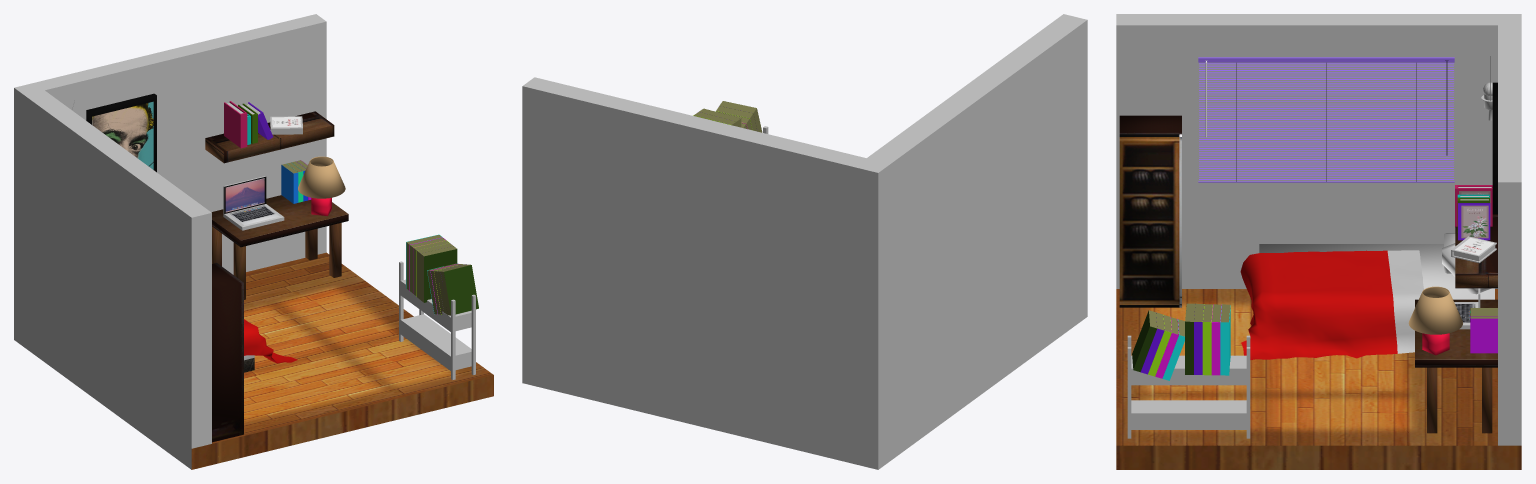
File: ModelBan.obj
3 renders of one model, left to right at view 1: azimuth 30°, elevation 25°; view 2: azimuth 150°, elevation 25°; view 3: azimuth 270°, elevation 25°, orthographic. The views are drawn at different scales.
Visible parts, largest first — view 1: Room_Wall_0, Room_Floor_0, Cube.005_Table_0, Table_Table_0, Shelves1_Shelves_material_0, Cube.001_Table_0, Cube.007_Images_0, Lampshade.001_Lampshade.001_material_0, Book0.001_Book0_material.001_0, Cube.004_Desktop_0, Cube.007_Black_0, Plane_ClothB_0 (+5 smaller); view 2: Room_Wall_0; view 3: Room_Wall_0, Room_Floor_0, Room_Windows_0, Venetian_slats_Plastic_venetian_material_0, Plane_ClothB_0, Cube.005_Wardrop_0, Shelves1_Shelves_material_0, Table_Table_0, Cube_Bed_0, Plane_Cloth_0, Lampshade.001_Lampshade.001_material_0, Cube.001_Table_0 (+15 smaller).
Boxes of the visible parts, x1,y1,x2,y2 form: Room_Wall_0: (14, 14, 326, 469); Room_Floor_0: (191, 252, 493, 469); Cube.005_Table_0: (212, 263, 243, 442); Table_Table_0: (211, 195, 348, 299); Shelves1_Shelves_material_0: (399, 261, 475, 379); Cube.001_Table_0: (205, 111, 334, 163); Cube.007_Images_0: (92, 101, 153, 169); Lampshade.001_Lampshade.001_material_0: (298, 156, 345, 198); Book0.001_Book0_material.001_0: (444, 265, 478, 314); Cube.004_Desktop_0: (225, 178, 264, 212); Cube.007_Black_0: (86, 93, 156, 172); Plane_ClothB_0: (244, 319, 297, 363); Room_Wall_0: (522, 14, 1087, 469); Room_Wall_0: (1116, 14, 1521, 445); Room_Floor_0: (1116, 289, 1521, 469); Room_Windows_0: (1188, 54, 1429, 191); Venetian_slats_Plastic_venetian_material_0: (1199, 63, 1453, 179); Plane_ClothB_0: (1240, 250, 1397, 359); Cube.005_Wardrop_0: (1119, 134, 1181, 307); Shelves1_Shelves_material_0: (1127, 335, 1250, 438); Table_Table_0: (1415, 299, 1497, 433); Cube_Bed_0: (1259, 244, 1494, 299); Plane_Cloth_0: (1387, 250, 1423, 353); Lampshade.001_Lampshade.001_material_0: (1408, 286, 1462, 334); Cube.001_Table_0: (1455, 214, 1497, 288).
Bounding box in the file's own units: 83.24 × 66.37 × 84.76.
